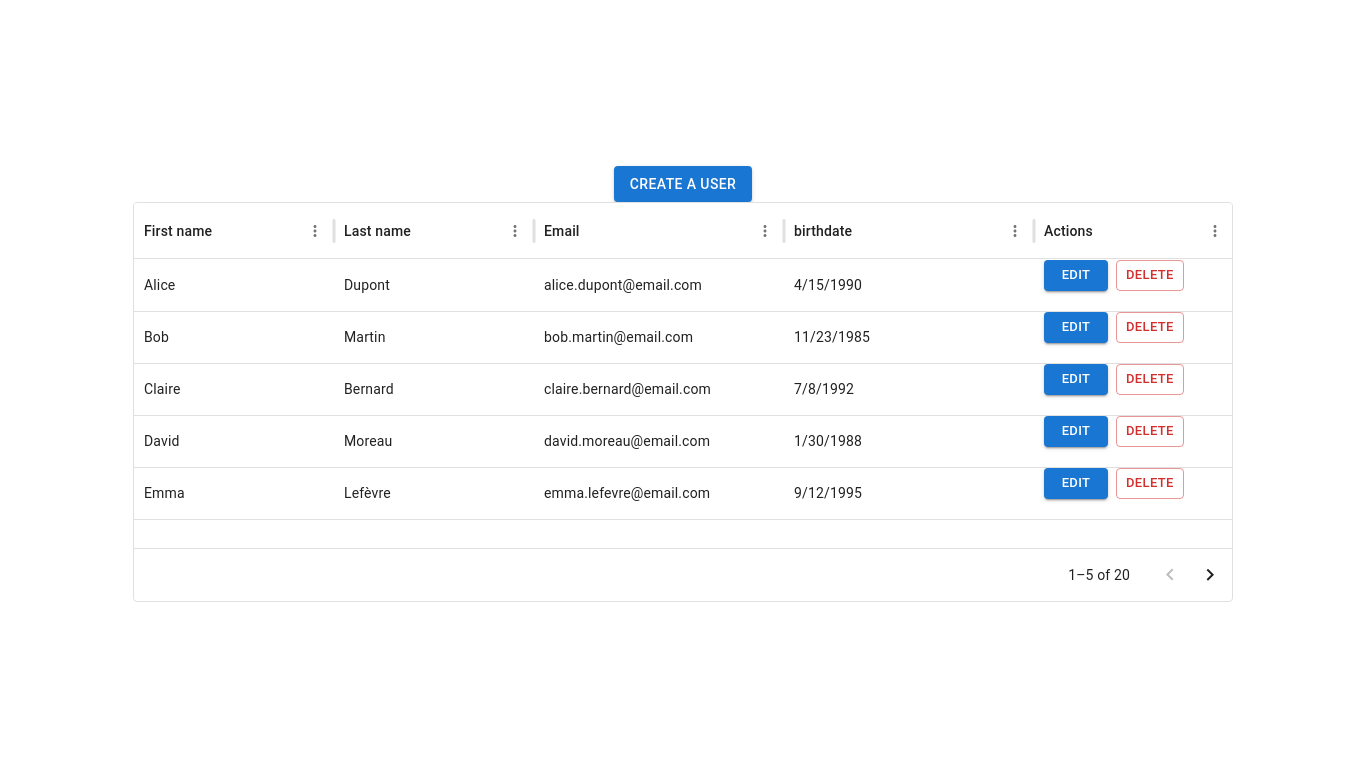
it: user page › should open user edition modal
Click the button "Edit" in the row of "alice.dupont@email.com": (1076, 276) [1044,260,1108,291]
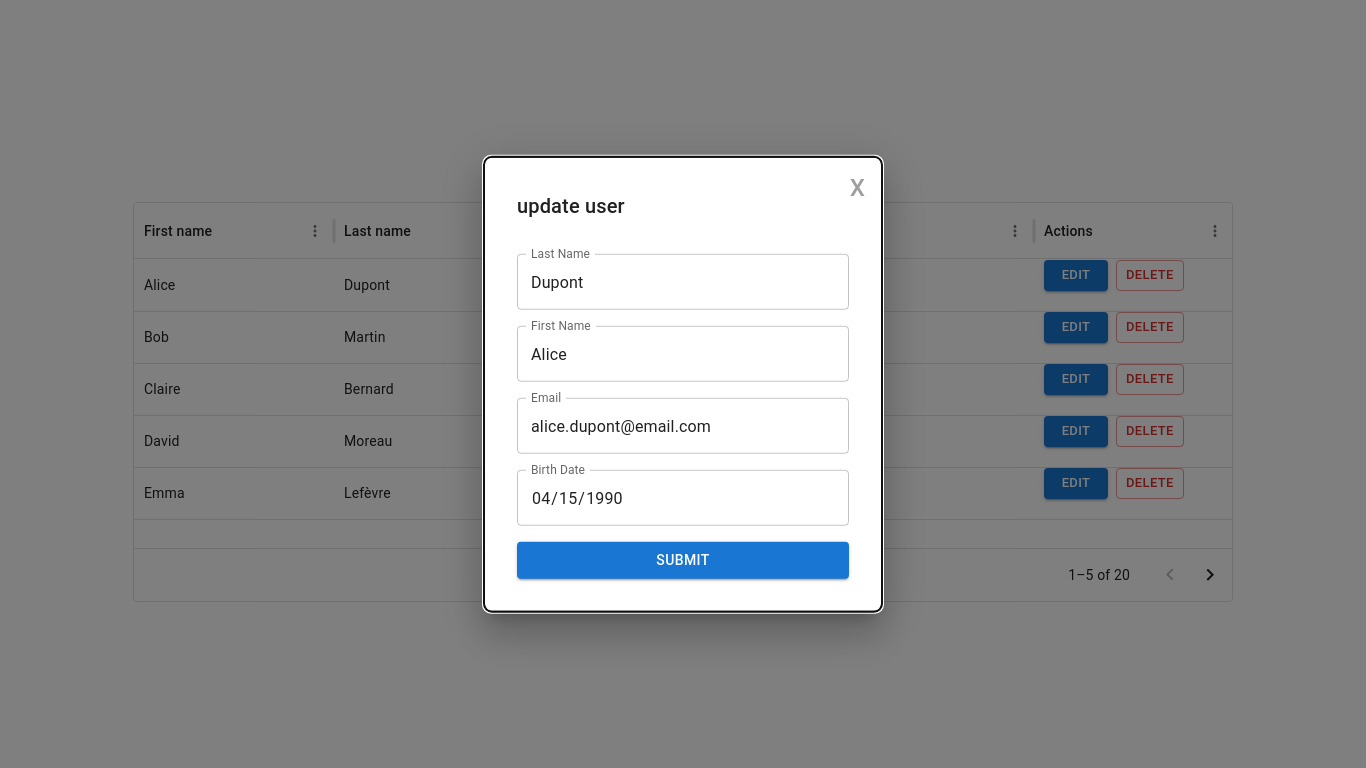
Expected: the heading "update user" is shown, [517,194,625,218]
